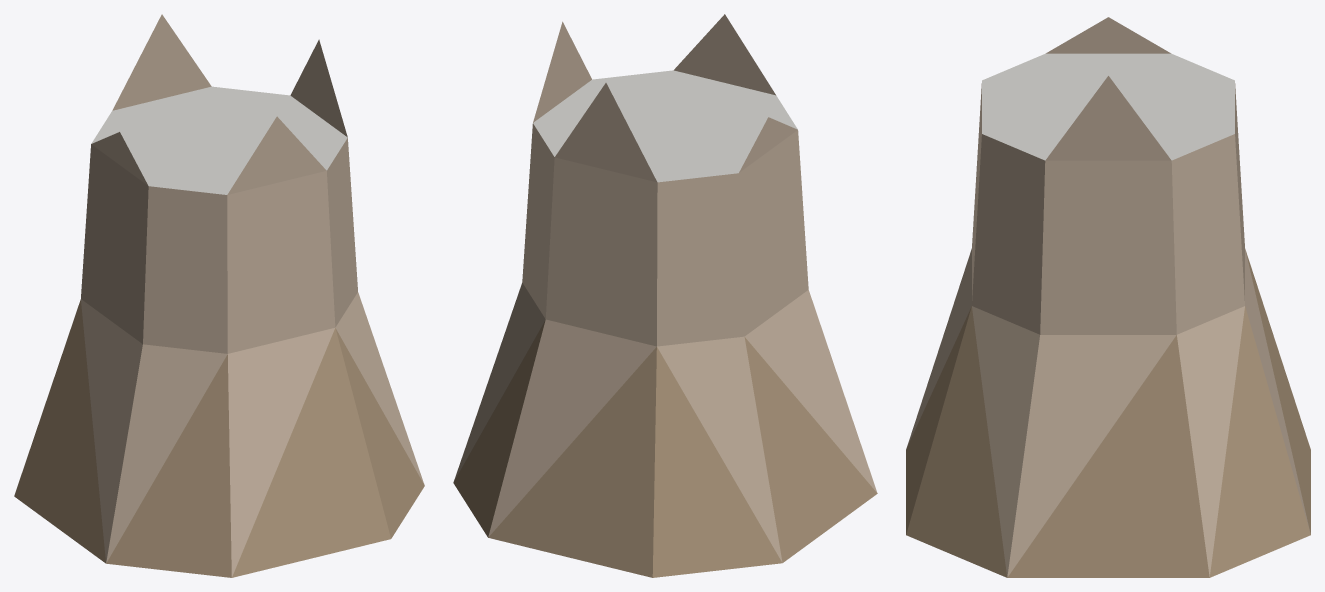
The picture shows the model from 3 angles, left to right: view 1: azimuth 30°, elevation 25°; view 2: azimuth 150°, elevation 25°; view 3: azimuth 270°, elevation 25°; orthographic projection. The views are drawn at different scales.
Visible parts, largest first — view 1: model; view 2: model; view 3: model.
Part boxes in pixels (x1,y1,x2,y2): model: (14, 14, 424, 577); model: (453, 14, 877, 577); model: (906, 17, 1310, 577).
Size of the model in its own units: 0.8 by 1.04 by 0.8.
